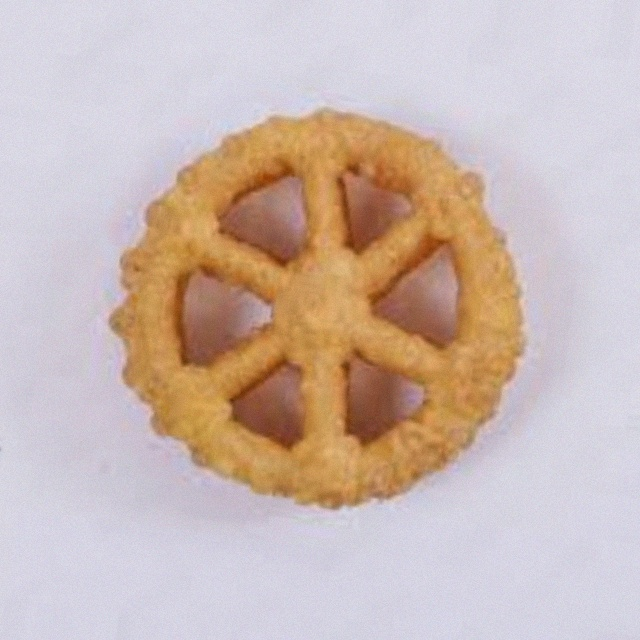Kokis: (117, 100, 523, 540)
